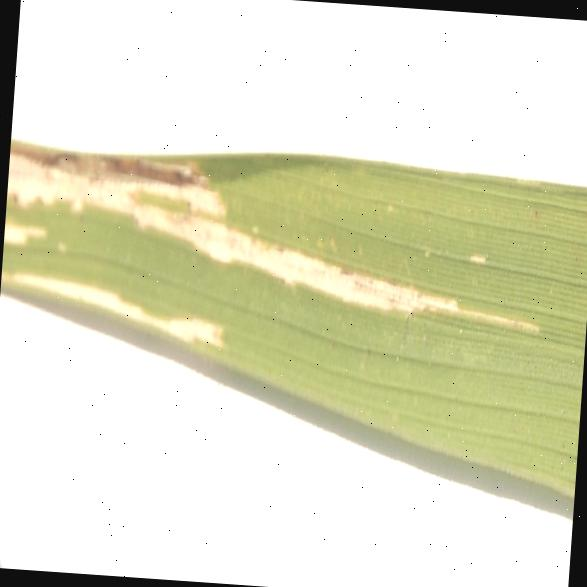Bacteria_Leaf_Blight: (0, 105, 561, 406)
